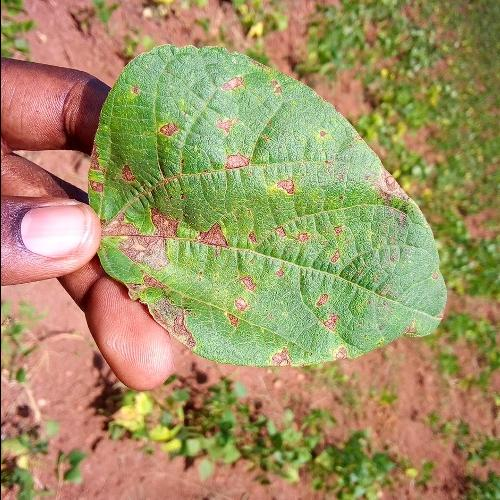hawar: (84, 43, 444, 370)
